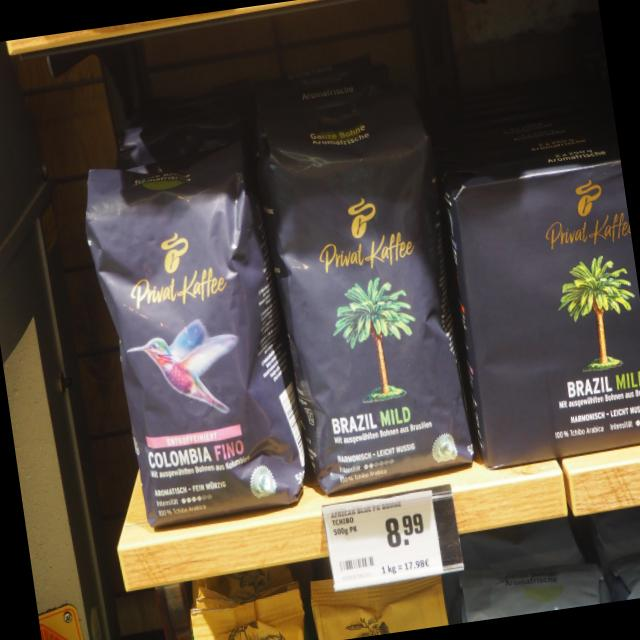BM Bohne: (248, 98, 486, 506)
BM Gemahlen: (433, 135, 640, 471)
C Fino Bohne: (64, 126, 316, 538)
